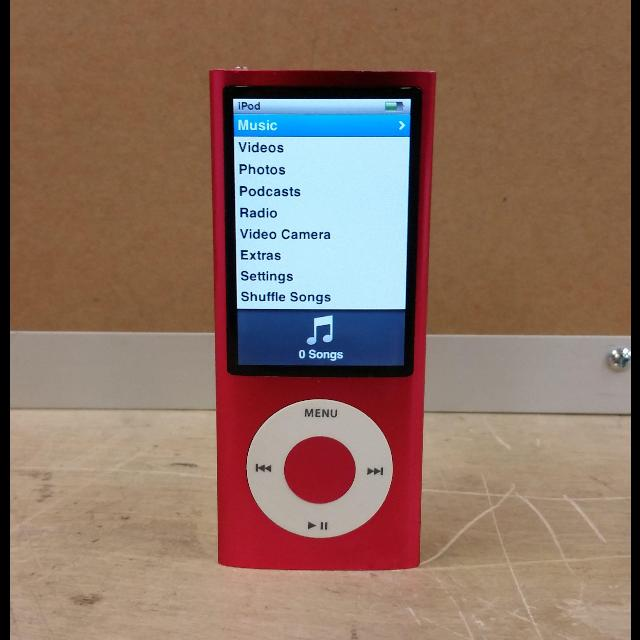Music-Player: (198, 56, 468, 588)
